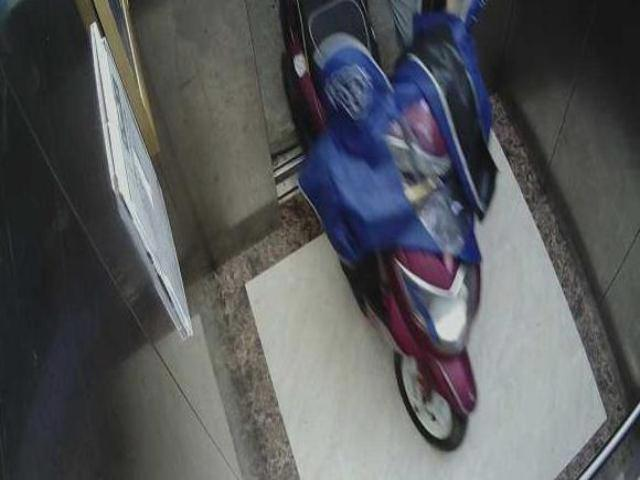emotor: (273, 7, 483, 440)
